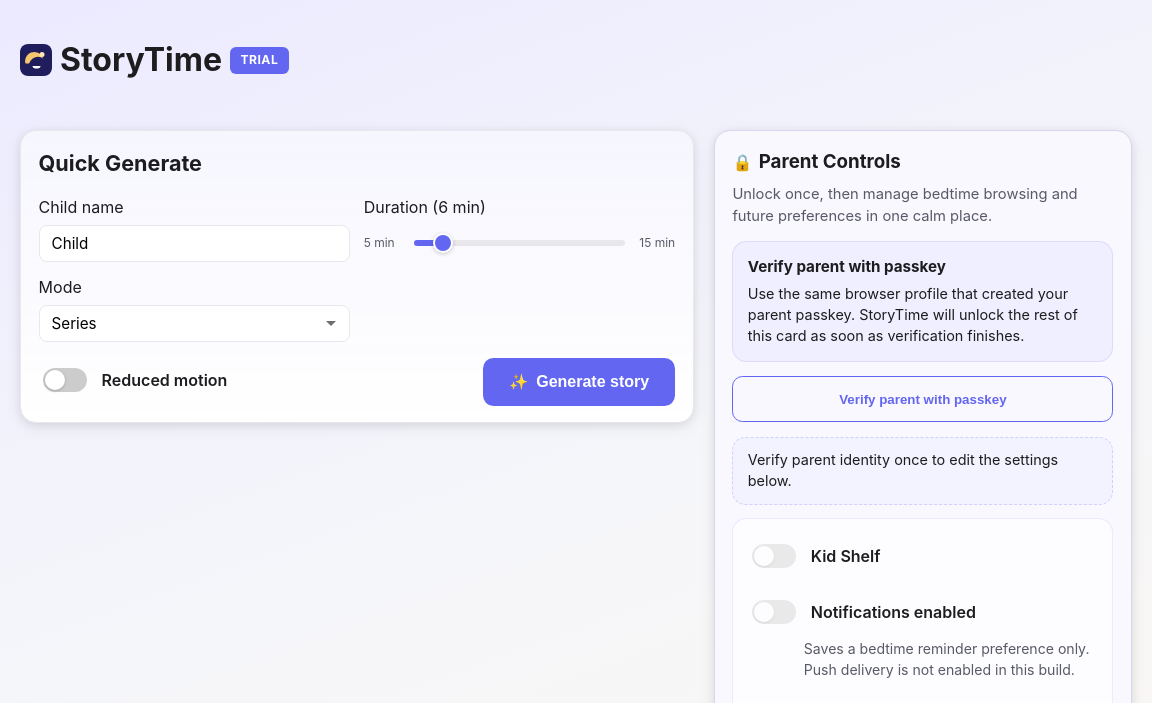
Test: App › displays series progress badge on generated series stories
Click the button "✨ Generate story" at (579, 382), box top-left (483, 358), bottom-right (675, 406)
(page scrolled)
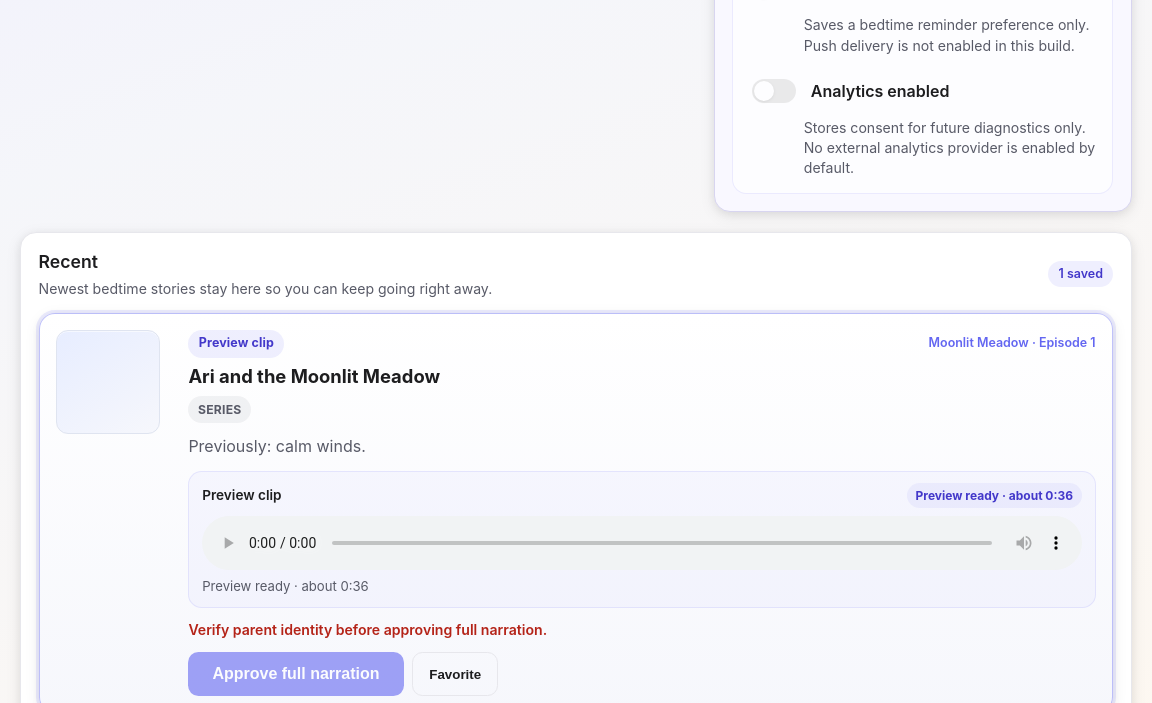
Check: the text "Ari and the Moonlit Meadow" is shown, box top-left (188, 365), bottom-right (440, 387)
Check: the text "Moonlit Meadow · Episode 1" is shown, box top-left (928, 334), bottom-right (1096, 353)
